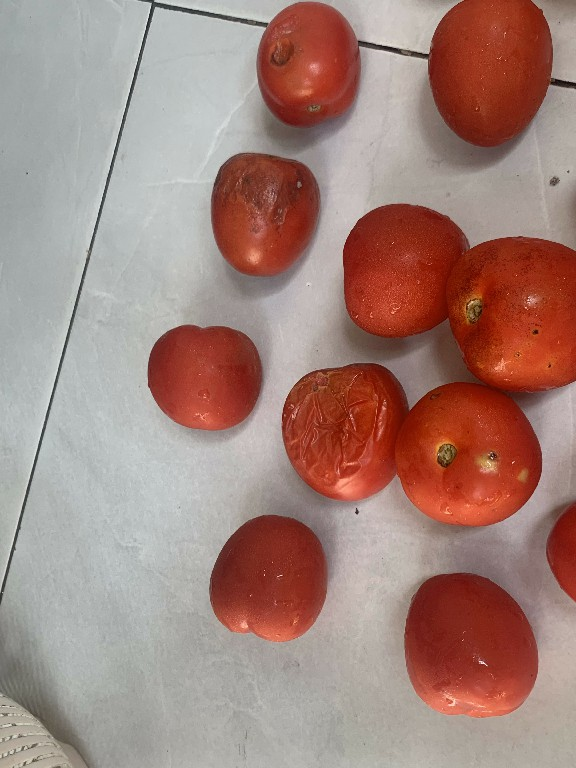NG: (394, 382, 548, 534), (444, 220, 576, 392), (274, 350, 413, 506), (198, 139, 326, 283), (253, 0, 364, 132)
OK: (398, 563, 547, 728), (417, 0, 562, 158), (196, 502, 342, 646), (342, 194, 473, 346), (137, 318, 265, 439)
